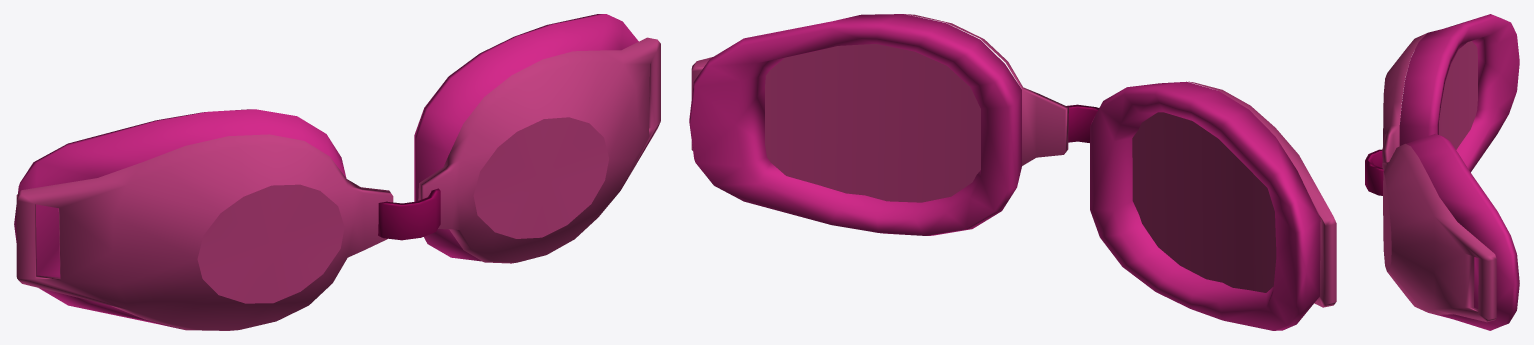
Rendered from AccessoryGlassGoggles2.glb.
3 renders of one model, left to right at view 1: azimuth 30°, elevation 25°; view 2: azimuth 150°, elevation 25°; view 3: azimuth 270°, elevation 25°, orthographic. The views are drawn at different scales.
Parts seen in each view (by area): view 1: AccessoryAlpha__mAccessoryAlpha, Accessory__mAccessory; view 2: Accessory__mAccessory, AccessoryAlpha__mAccessoryAlpha; view 3: Accessory__mAccessory, AccessoryAlpha__mAccessoryAlpha.
Part boxes in pixels (x1,y1,x2,y2): AccessoryAlpha__mAccessoryAlpha: (16, 37, 660, 330); Accessory__mAccessory: (14, 14, 638, 330); Accessory__mAccessory: (689, 14, 1320, 330); AccessoryAlpha__mAccessoryAlpha: (691, 14, 1336, 307); Accessory__mAccessory: (1365, 14, 1519, 330); AccessoryAlpha__mAccessoryAlpha: (1382, 33, 1496, 322).
Bounding box in the file's own units: 6.8 × 2.14 × 1.89.
Materials: 2 (2 with a texture image).
